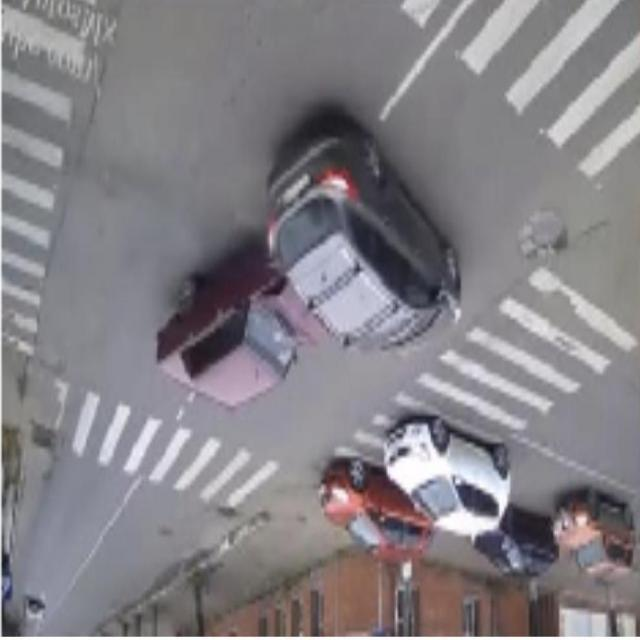moderate: (150, 107, 465, 416)
